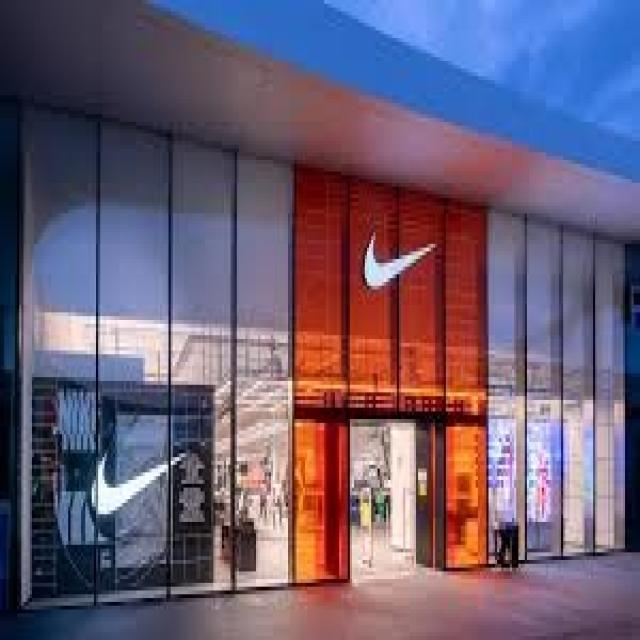nike: (362, 225, 438, 293)
